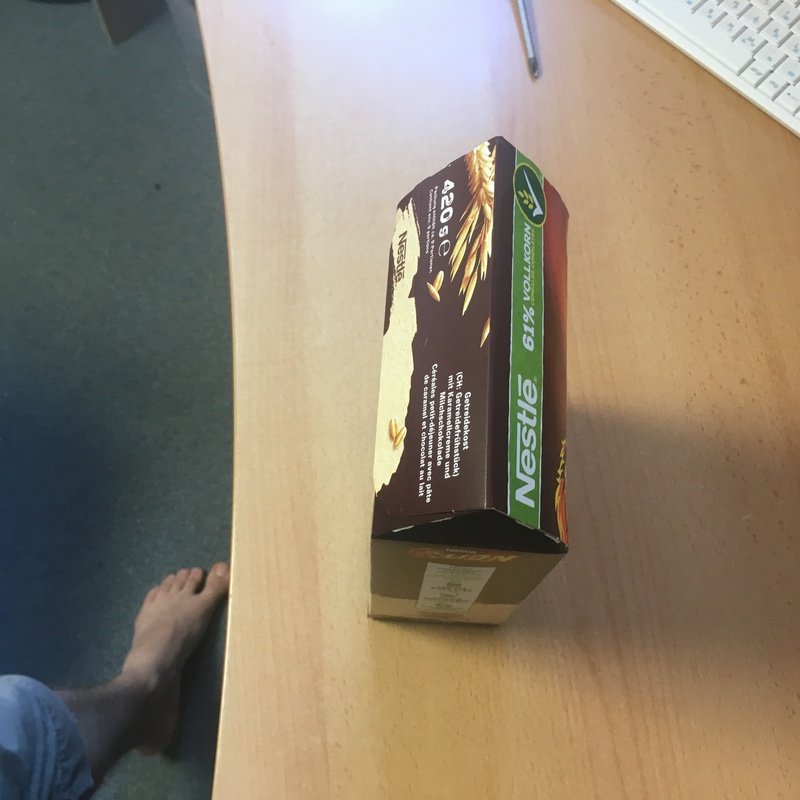cereals: (368, 138, 571, 627)
